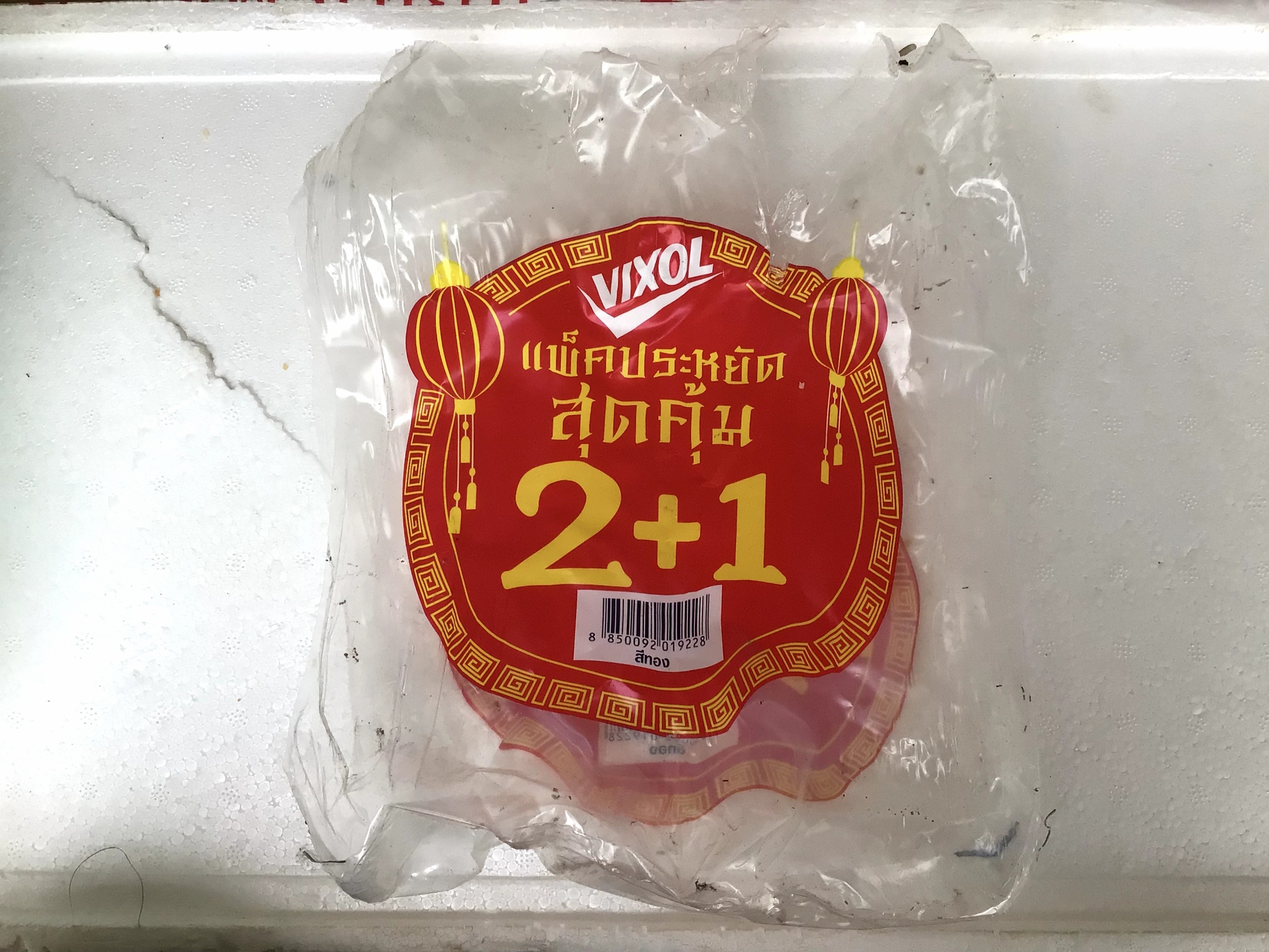plastic: (279, 7, 1069, 926)
